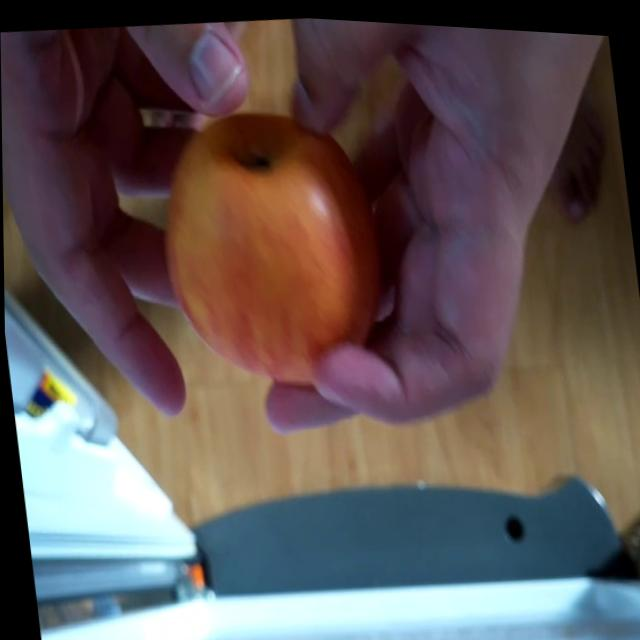apple: (142, 95, 392, 399)
